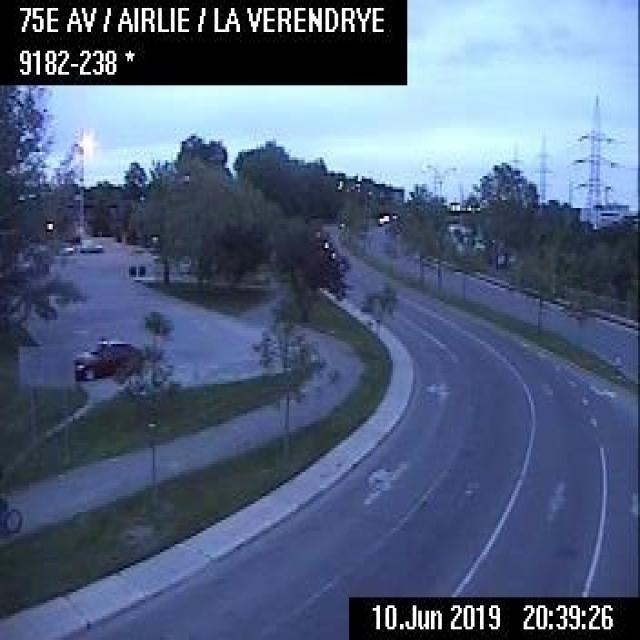cyclist: (0, 492, 22, 532)
vehicle: (73, 334, 143, 382), (78, 237, 105, 253)
